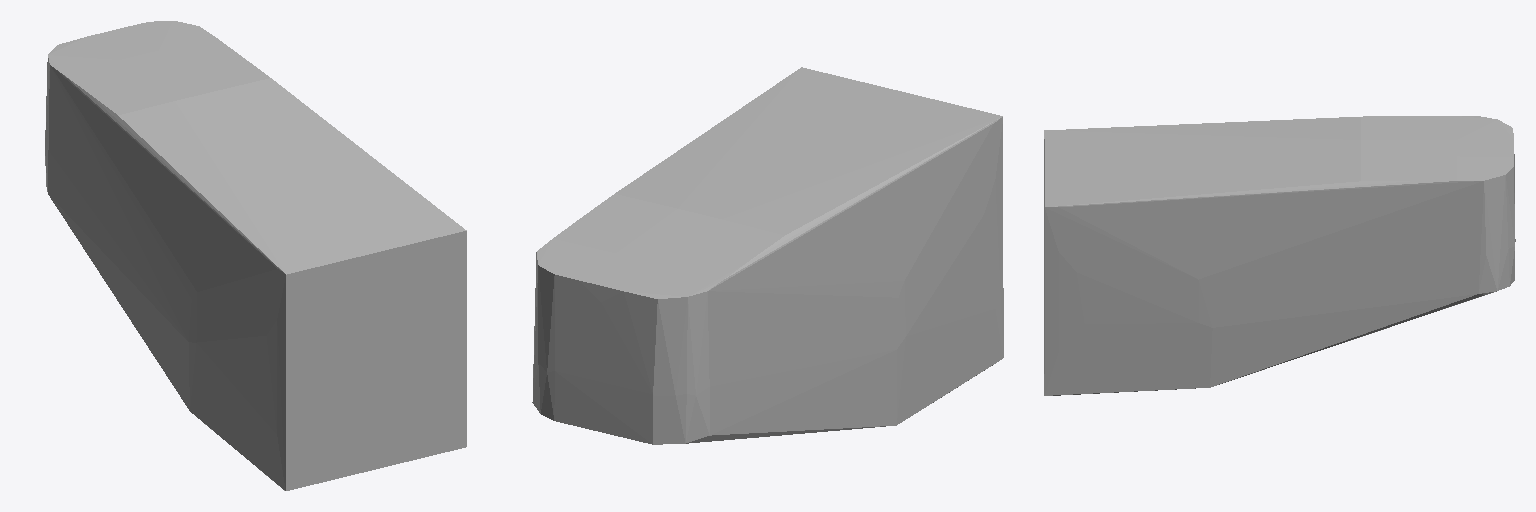
robot.urdf — root:
<robot name="root">
  <link name="link_franka_description_convex_piece_0">
    <inertial>
      <origin xyz="0 0 0" rpy="0 0 0"/>
      <mass value="1.12E-05"/>
      <inertia ixx="2.68E-09" ixy="9.75E-14" ixz="-2.27E-14" iyy="8.16E-11" iyz="-8.90E-10" izz="3.33E-09"/>
    </inertial>
    <visual>
      <origin xyz="0 0 0" rpy="0 0 0"/>
      <geometry>
        <mesh filename="franka_description_convex_piece_0.obj" scale="1.0000E+00 1.0000E+00 1.0000E+00"/>
      </geometry>
      <material name="">
        <color rgba="7.50E-01 7.50E-01 7.50E-01 1"/>
      </material>
    </visual>
    <collision>
      <origin xyz="0 0 0" rpy="0 0 0"/>
      <geometry>
        <mesh filename="franka_description_convex_piece_0.obj" scale="1.0000E+00 1.0000E+00 1.0000E+00"/>
      </geometry>
    </collision>
  </link>
</robot>

--- Facts derived from the render (not from the file) ---
Views: 3 orthographic renders of the robot side by side, from view 1: azimuth 30°, elevation 25°; view 2: azimuth 150°, elevation 25°; view 3: azimuth 270°, elevation 25°.
Model root with 1 links and 0 joints (none), rooted at link_franka_description_convex_piece_0, posed every joint at zero.
Visible links, largest first — view 1: link_franka_description_convex_piece_0; view 2: link_franka_description_convex_piece_0; view 3: link_franka_description_convex_piece_0.
Boxes of the visible links, <box> form: link_franka_description_convex_piece_0: <box>45,21,466,490</box>; link_franka_description_convex_piece_0: <box>532,67,1003,444</box>; link_franka_description_convex_piece_0: <box>1044,116,1515,395</box>.
Bounding box of the posed robot: 0.021 × 0.0538 × 0.0264 m (x, y, z).
1 mesh visuals loaded from 1 distinct referenced files (1 OBJ).